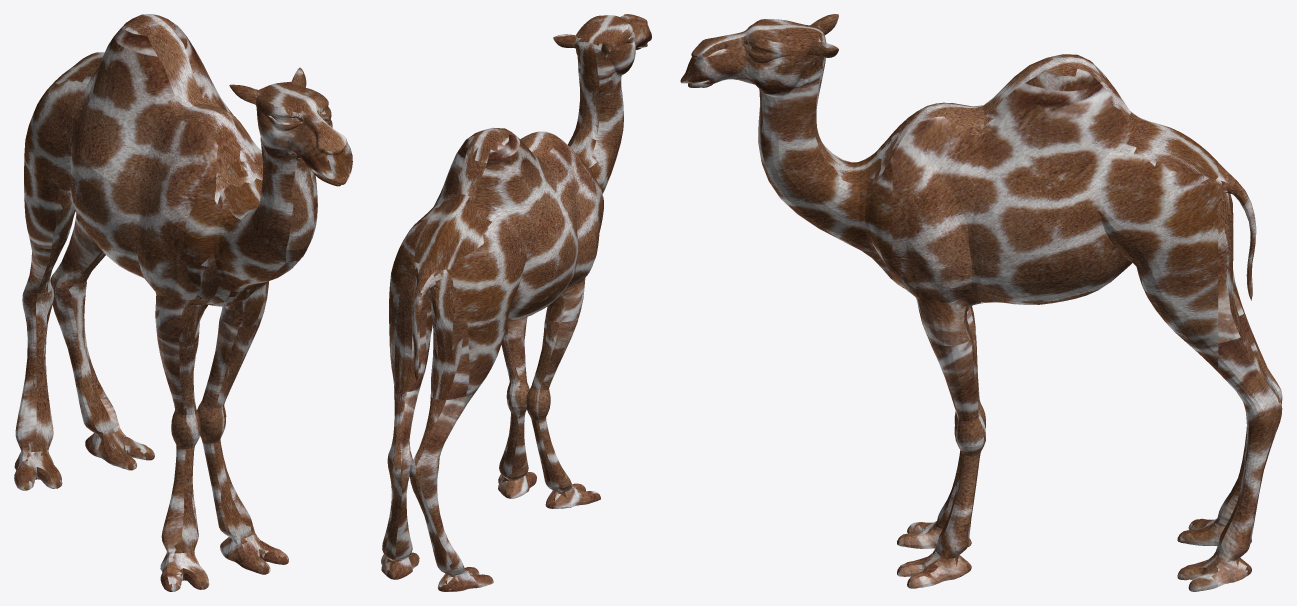
Rendered from camel.fbx.
3 renders of one model, left to right at view 1: azimuth 30°, elevation 25°; view 2: azimuth 150°, elevation 25°; view 3: azimuth 270°, elevation 25°, orthographic. The views are drawn at different scales.
Parts seen in each view (by area): view 1: camel-vhacd; view 2: camel-vhacd; view 3: camel-vhacd.
Boxes of the visible parts, x1,y1,x2,y2 form: camel-vhacd: (14, 14, 352, 591); camel-vhacd: (381, 14, 651, 591); camel-vhacd: (680, 14, 1282, 591).
Bounding box in the file's own units: 87.36 × 286 × 280.
Materials: 1 (1 with a texture image).
